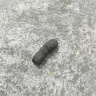Dog: (32, 39, 58, 65)
